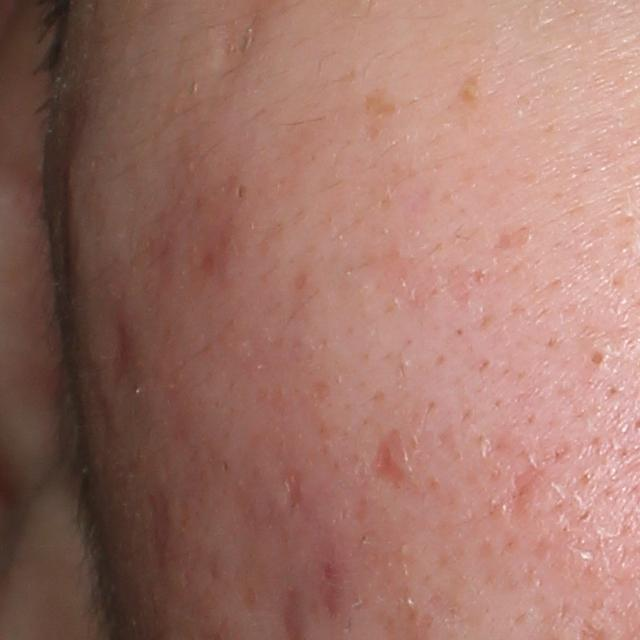atrophic_scar: (498, 460, 555, 528), (108, 313, 144, 399), (141, 486, 172, 565), (485, 222, 535, 250), (285, 472, 306, 520)
comedo: (233, 179, 251, 205)
melasma: (457, 72, 483, 109)
